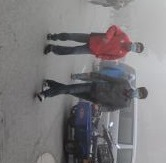person: (37, 77, 148, 112), (42, 26, 146, 60), (71, 64, 134, 83)
